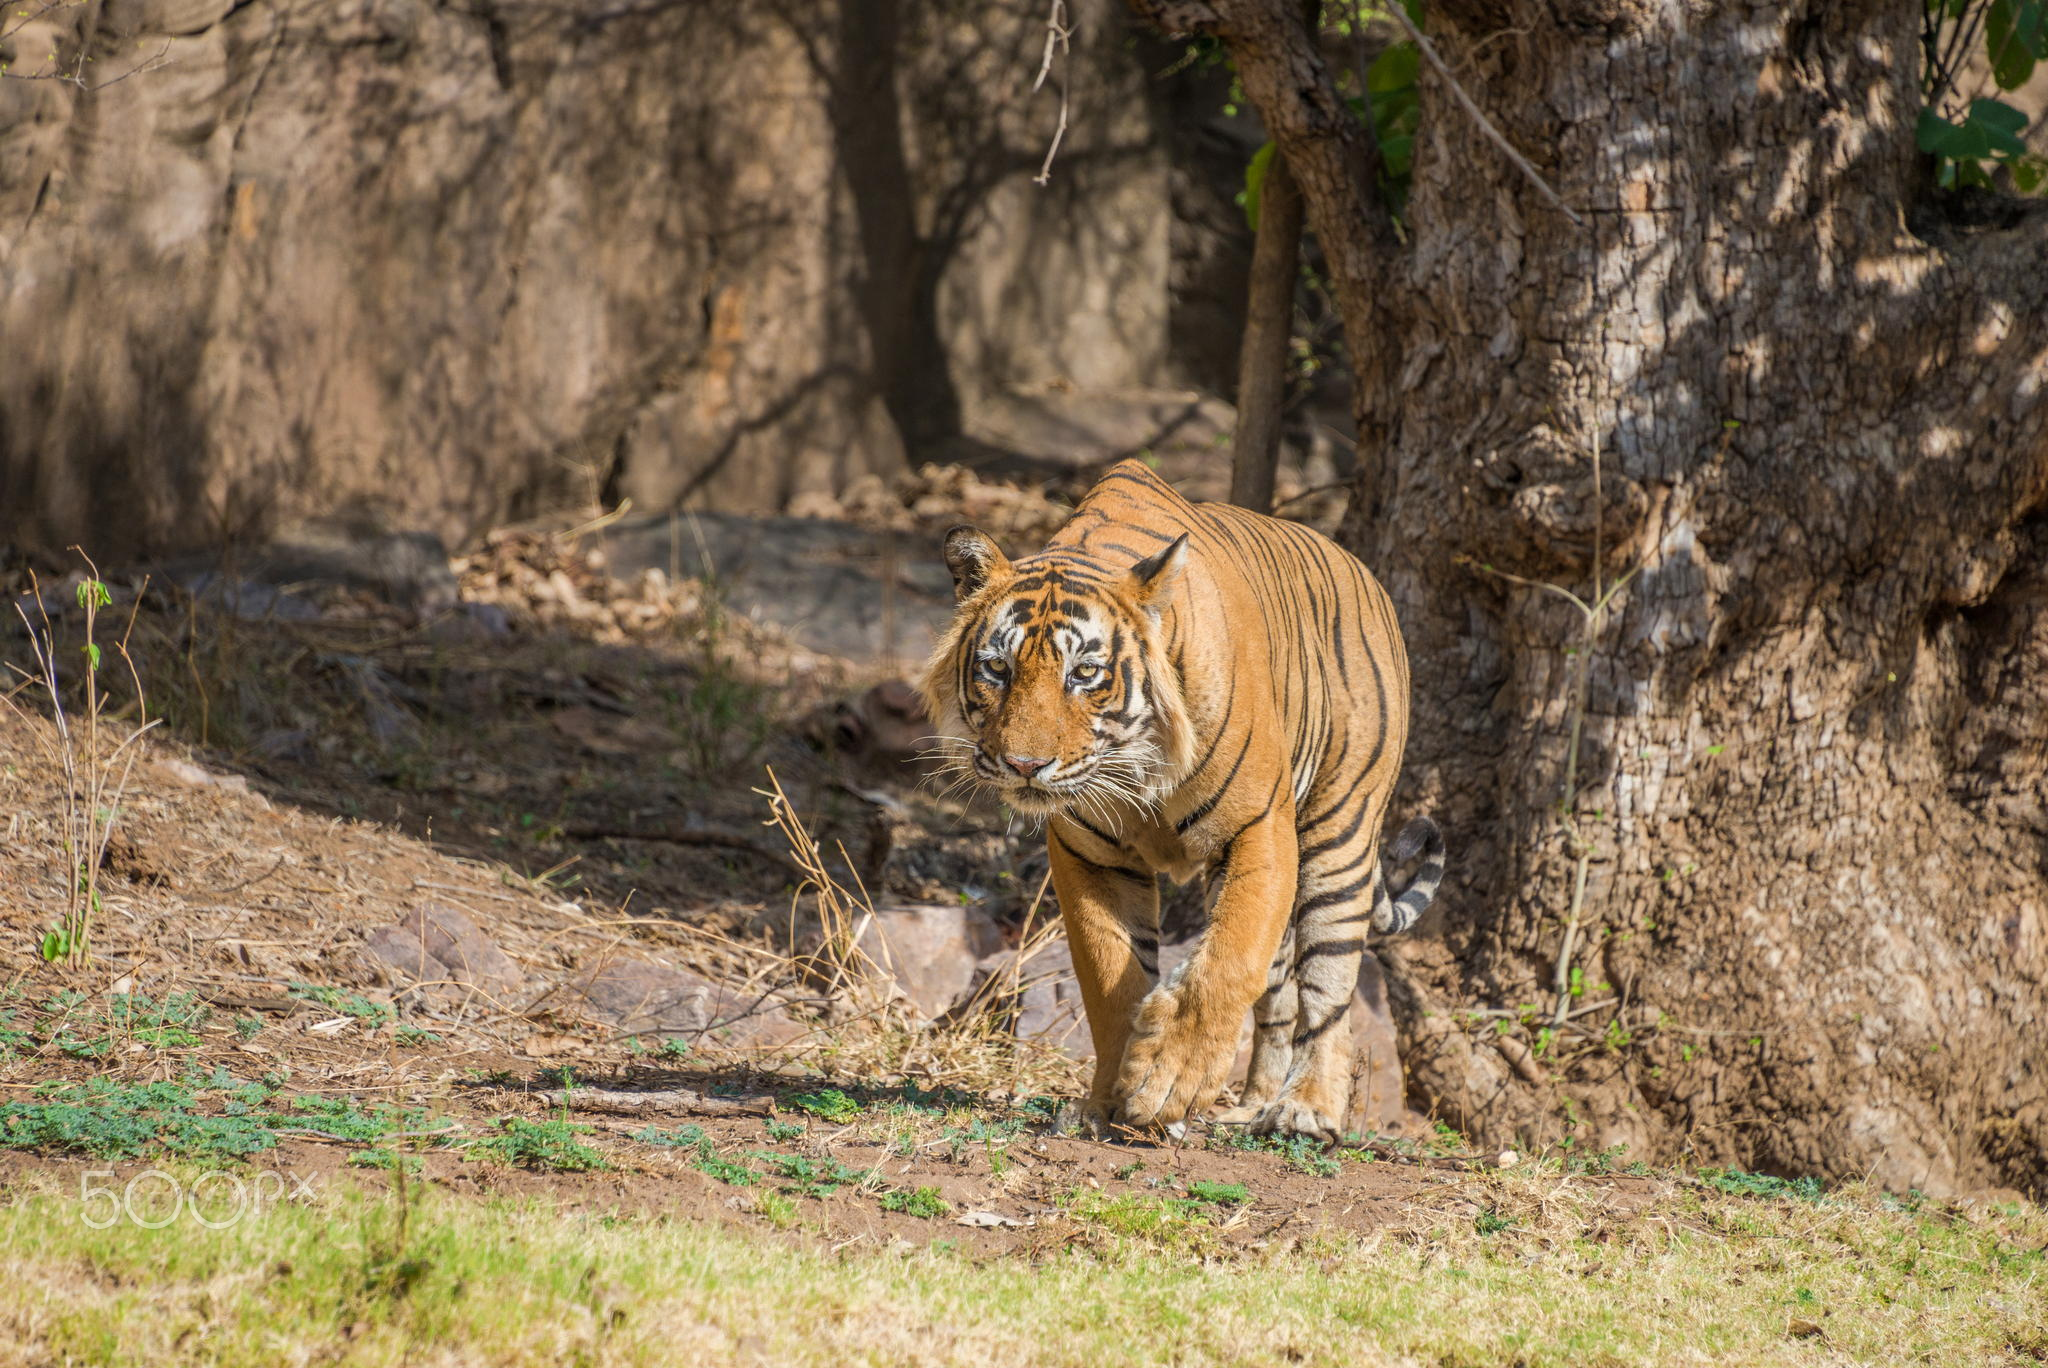tiger: (900, 457, 1480, 1163)
